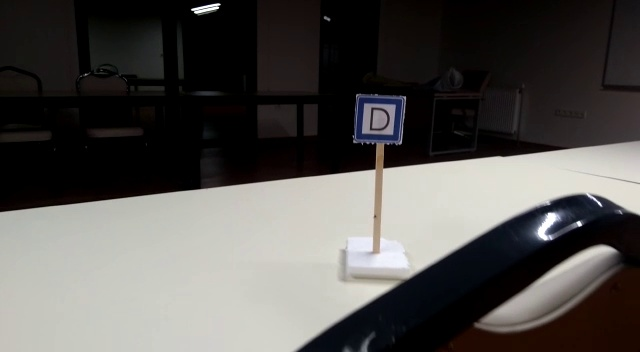durak: (351, 95, 405, 142)
